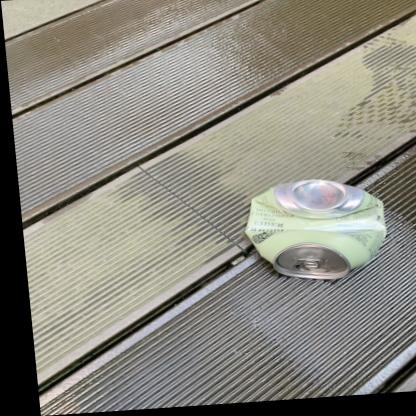trash: (245, 179, 385, 279)
